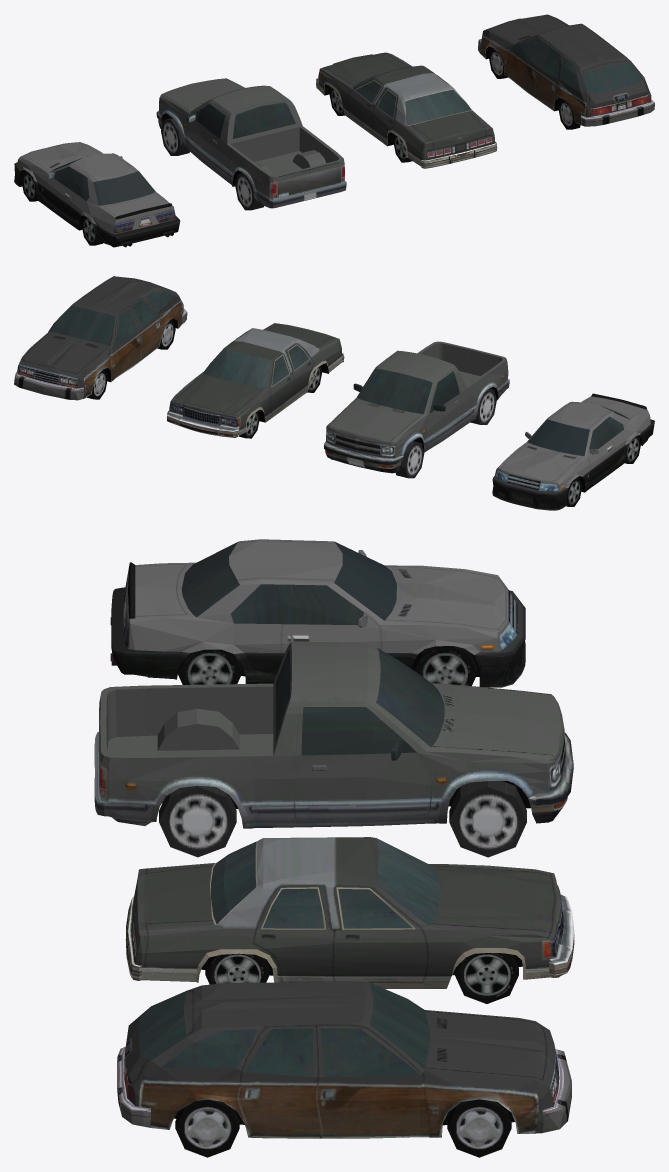
Rendered from low-poly_cars.glb.
The picture shows the model from 3 angles, top to bottom: view 1: azimuth 30°, elevation 25°; view 2: azimuth 150°, elevation 25°; view 3: azimuth 270°, elevation 25°; orthographic projection. The views are drawn at different scales.
Parts seen in each view (by area): view 1: car2_Material01_0, car4_Material01_0, car3_Material01_0, car1_Material01_0; view 2: car2_Material01_0, car4_Material01_0, car3_Material01_0, car1_Material01_0; view 3: car2_Material01_0, car4_Material01_0, car3_Material01_0, car1_Material01_0.
Part boxes in pixels (x1,y1,x2,y2): car2_Material01_0: (156, 78, 346, 210); car4_Material01_0: (478, 14, 654, 129); car3_Material01_0: (316, 52, 497, 168); car1_Material01_0: (14, 142, 180, 247); car2_Material01_0: (324, 341, 509, 478); car4_Material01_0: (14, 276, 187, 400); car3_Material01_0: (167, 323, 344, 438); car1_Material01_0: (492, 393, 654, 510); car2_Material01_0: (94, 642, 573, 857); car4_Material01_0: (117, 981, 571, 1157); car3_Material01_0: (125, 837, 574, 1003); car1_Material01_0: (110, 539, 525, 687).
Bounding box in the file's own units: 111 × 15.39 × 42.72.
Materials: 1 (1 with a texture image).
